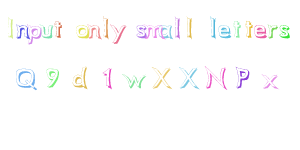1: (101, 67, 114, 89)
9: (44, 66, 60, 89)
I: (3, 15, 19, 41)
N: (205, 66, 228, 90)
P: (234, 66, 250, 88)
Q: (14, 66, 38, 91)
X: (178, 65, 201, 90), (151, 65, 173, 90)
a: (159, 23, 173, 40)
d: (72, 66, 90, 90)
e: (217, 23, 232, 40), (253, 23, 267, 41)
l: (207, 15, 218, 40), (183, 16, 194, 40), (101, 16, 110, 40), (173, 16, 182, 40)
m: (144, 24, 161, 41)
n: (15, 22, 29, 40), (87, 23, 102, 39)
o: (75, 23, 90, 40)
p: (26, 23, 42, 47)
r: (267, 23, 278, 39)
s: (279, 24, 293, 40), (134, 23, 146, 40)
t: (52, 18, 64, 39), (243, 18, 253, 38), (232, 19, 240, 40)
u: (40, 23, 54, 40)
w: (122, 73, 147, 90)
x: (261, 72, 279, 90)
y: (110, 22, 126, 46)
